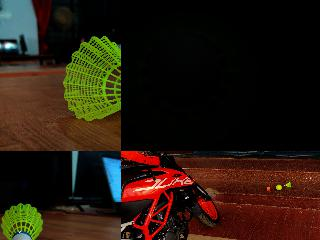shuttlecock: (121, 8, 261, 150), (62, 35, 120, 121), (0, 202, 44, 239), (284, 182, 290, 186)
